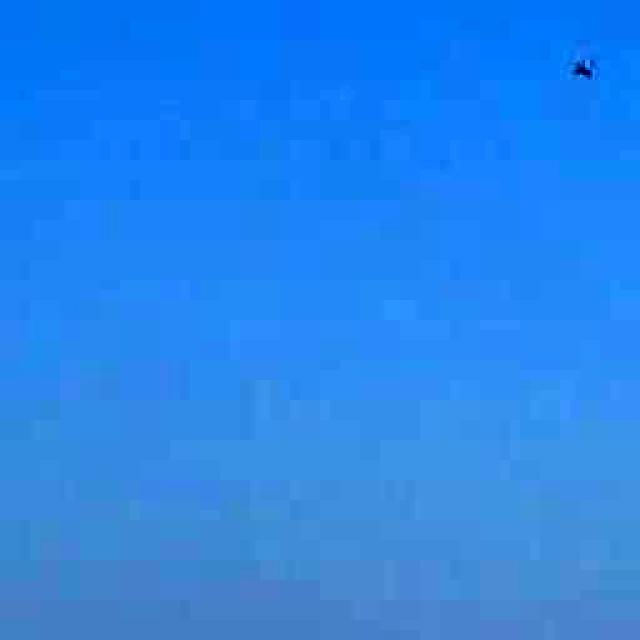bird: (545, 32, 625, 102)
